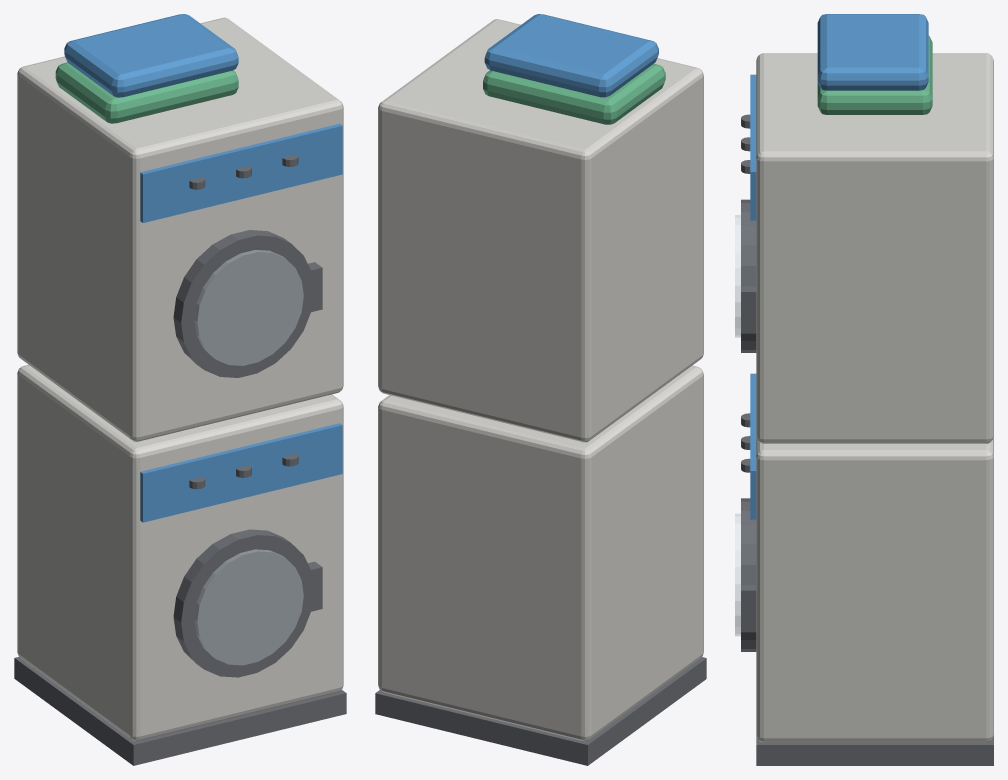
Rendered from boarding-kennels-and-cattery-boarding-kennels-and-catt-1c03753a__35559.glb.
The picture shows the model from 3 angles, left to right: view 1: azimuth 30°, elevation 25°; view 2: azimuth 150°, elevation 25°; view 3: azimuth 270°, elevation 25°; orthographic projection.
Visible parts, largest first — view 1: boarding-kennels-and-cattery-laundry-stack, dryer-door/charcoal, washer-door/charcoal, washer-door/glass, dryer-door/glass; view 2: boarding-kennels-and-cattery-laundry-stack; view 3: boarding-kennels-and-cattery-laundry-stack, washer-door/charcoal, dryer-door/charcoal, washer-door/glass, dryer-door/glass.
Part boxes in pixels (x1,y1,x2,y2): boarding-kennels-and-cattery-laundry-stack: (14, 14, 346, 765); dryer-door/charcoal: (173, 230, 322, 377); washer-door/charcoal: (173, 529, 322, 677); washer-door/glass: (194, 549, 303, 665); dryer-door/glass: (194, 250, 303, 365); boarding-kennels-and-cattery-laundry-stack: (375, 14, 706, 765); boarding-kennels-and-cattery-laundry-stack: (741, 14, 993, 765); washer-door/charcoal: (741, 498, 756, 651); dryer-door/charcoal: (741, 199, 756, 352); washer-door/glass: (735, 513, 740, 636); dryer-door/glass: (735, 215, 740, 337).
Bounding box in the file's own units: 0.6401 × 1.89 × 0.675.
